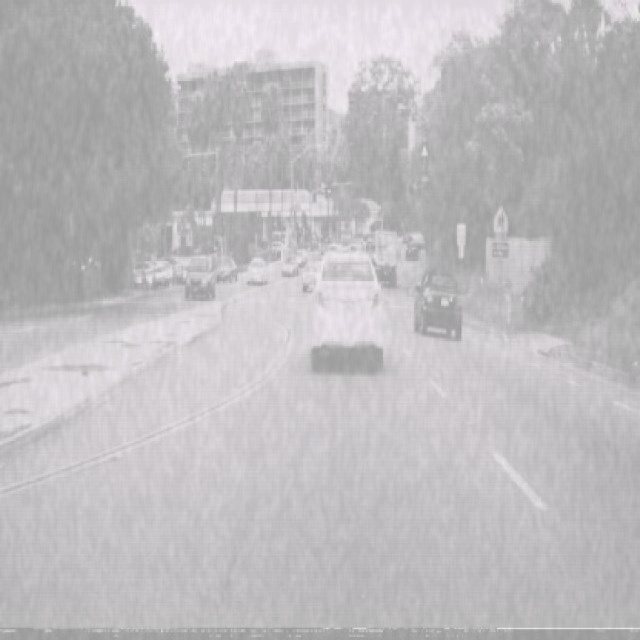school: (492, 203, 508, 235)
